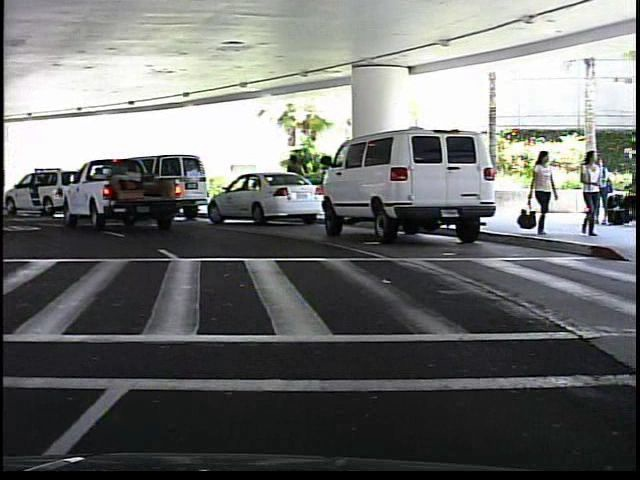person: (527, 145, 557, 235), (576, 148, 605, 238), (284, 150, 309, 213), (598, 155, 614, 228)
